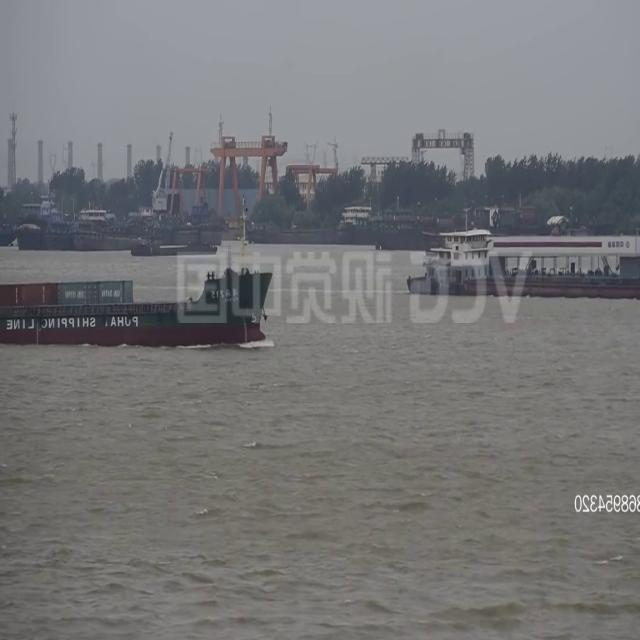cargoship: (0, 226, 290, 370), (401, 179, 640, 320)
